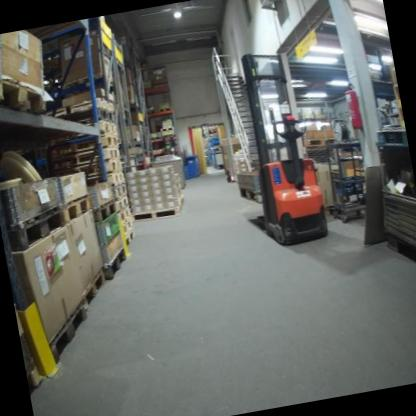pallet: (40, 297, 94, 365), (5, 202, 70, 257), (0, 68, 51, 123), (76, 265, 113, 315), (131, 198, 185, 224), (60, 135, 121, 156), (61, 147, 121, 168), (101, 245, 131, 282), (61, 195, 96, 225), (79, 158, 123, 177), (91, 198, 119, 225), (305, 134, 340, 151), (99, 119, 117, 137), (117, 205, 131, 224), (123, 228, 136, 248), (121, 218, 135, 236), (115, 195, 130, 211), (108, 173, 125, 187), (112, 184, 127, 198), (160, 126, 174, 132), (158, 107, 170, 111)
pallet_truck: (215, 45, 336, 258), (217, 141, 235, 184)
stillage: (363, 133, 416, 275), (302, 138, 344, 172)
